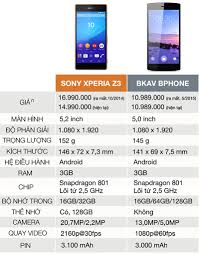bphone: (143, 1, 182, 70)
sony: (71, 1, 111, 71)
